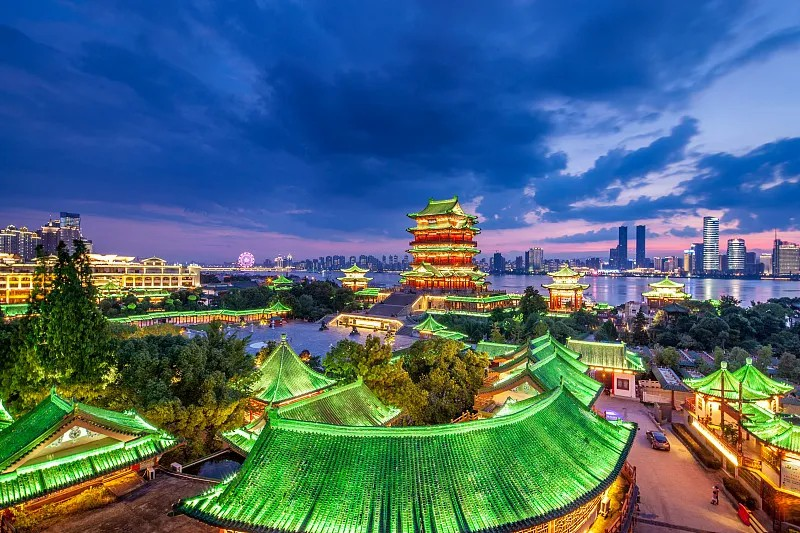Teng: (398, 196, 493, 295)
